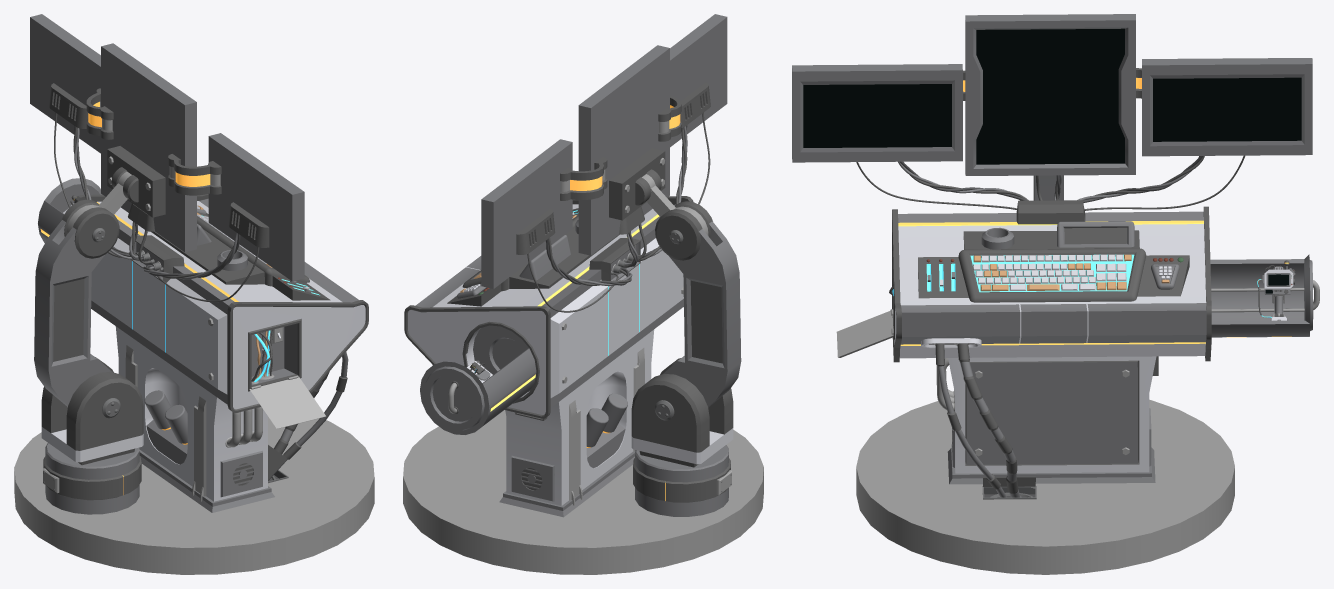
File: terminal.glb
3 views of the same model, side by side, from view 1: azimuth 30°, elevation 25°; view 2: azimuth 150°, elevation 25°; view 3: azimuth 270°, elevation 25° (orthographic). The views are drawn at different scales.
Parts seen in each view (by area): view 1: polySurface54, Terminal1:polySurface25, Terminal1:pCube3, Terminal1:pCylinder55, Terminal1:polySurface24, Terminal1:pCube4, Terminal1:polySurface7, Terminal1:pCylinder58, Terminal1:pCube5, Terminal1:pCube6, Terminal1:pCylinder59, Terminal1:pCylinder60 (+18 smaller); view 2: polySurface54, Terminal1:polySurface25, Terminal1:pCube3, Terminal1:pCylinder55, Terminal1:polySurface7, Terminal1:pCube5, Terminal1:polySurface27, Terminal1:pCylinder58, Terminal1:polySurface16, Terminal1:pCube4, Terminal1:pCylinder59, Terminal1:pCylinder60 (+18 smaller); view 3: polySurface54, Terminal1:polySurface25, Terminal1:pCube3, Terminal1:polySurface7, Terminal1:pCube4, Terminal1:pCube5, Terminal1:pCube6, Terminal1:polySurface16, Terminal1:polySurface6, Terminal1:pCube12, Terminal1:sweep4, Terminal1:pCube8 (+5 smaller).
Boxes of the visible parts, box(x1,y1,x2,y2) form: polySurface54: box(14, 416, 374, 574); Terminal1:polySurface25: box(91, 198, 358, 404); Terminal1:pCube3: box(101, 43, 196, 252); Terminal1:pCylinder55: box(34, 220, 111, 406); Terminal1:polySurface24: box(227, 300, 368, 412); Terminal1:pCube4: box(208, 133, 304, 281); Terminal1:polySurface7: box(115, 326, 267, 501); Terminal1:pCylinder58: box(41, 357, 143, 462); Terminal1:pCube5: box(30, 14, 100, 153); Terminal1:pCube6: box(151, 212, 330, 300); Terminal1:pCylinder59: box(45, 443, 139, 514); Terminal1:pCylinder60: box(62, 183, 127, 258); polySurface54: box(403, 410, 763, 574); Terminal1:polySurface25: box(415, 204, 683, 407); Terminal1:pCube3: box(578, 45, 669, 255); Terminal1:pCylinder55: box(663, 221, 741, 407); Terminal1:polySurface7: box(505, 329, 654, 505); Terminal1:pCube5: box(481, 139, 572, 288); Terminal1:polySurface27: box(404, 305, 550, 418); Terminal1:pCylinder58: box(631, 358, 733, 464); Terminal1:polySurface16: box(420, 348, 536, 434); Terminal1:pCube4: box(670, 14, 727, 147); Terminal1:pCylinder59: box(635, 445, 728, 516); Terminal1:pCylinder60: box(646, 185, 712, 260); polySurface54: box(856, 399, 1234, 574); Terminal1:polySurface25: box(898, 200, 1206, 358); Terminal1:pCube3: box(965, 14, 1135, 175); Terminal1:polySurface7: box(948, 356, 1156, 473); Terminal1:pCube4: box(792, 64, 962, 162); Terminal1:pCube5: box(1142, 58, 1312, 156); Terminal1:pCube6: box(918, 230, 1189, 302); Terminal1:polySurface16: box(1210, 254, 1313, 337); Terminal1:polySurface6: box(947, 444, 1155, 484); Terminal1:pCube12: box(1057, 221, 1134, 247); Terminal1:sweep4: box(957, 343, 1021, 497); Terminal1:pCube8: box(836, 310, 893, 357).
Bounding box in the file's own units: 0.1127 × 0.1494 × 0.1571.
